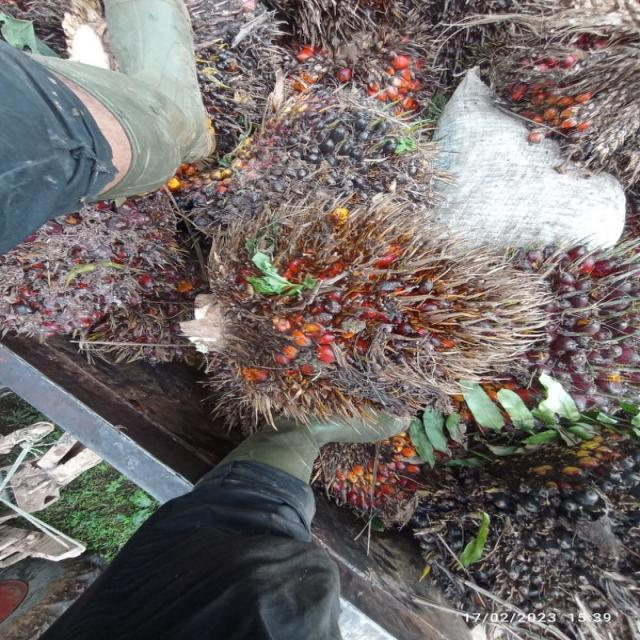fraksi 00: (385, 402, 640, 639), (212, 66, 469, 245)
fraksi 1: (480, 196, 640, 441)
fraksi 4: (192, 190, 532, 444)
